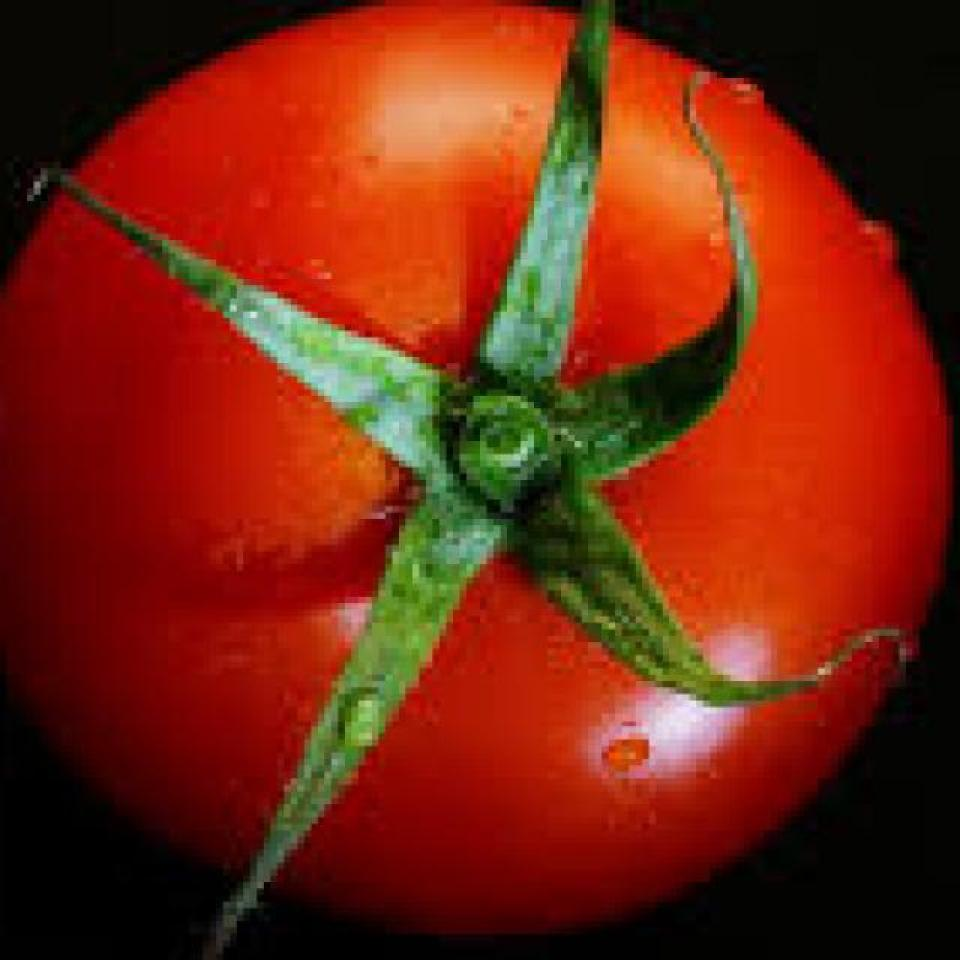Healthy: (4, 19, 960, 914)
